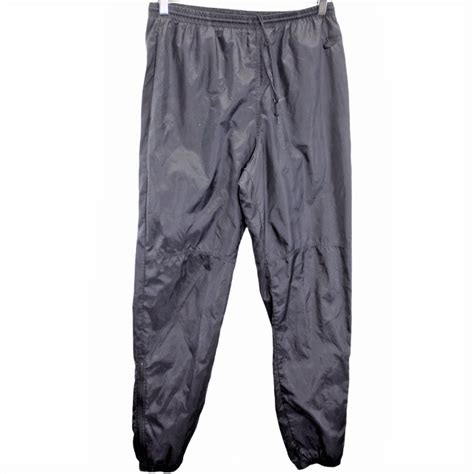nylon: (134, 1, 353, 471)
